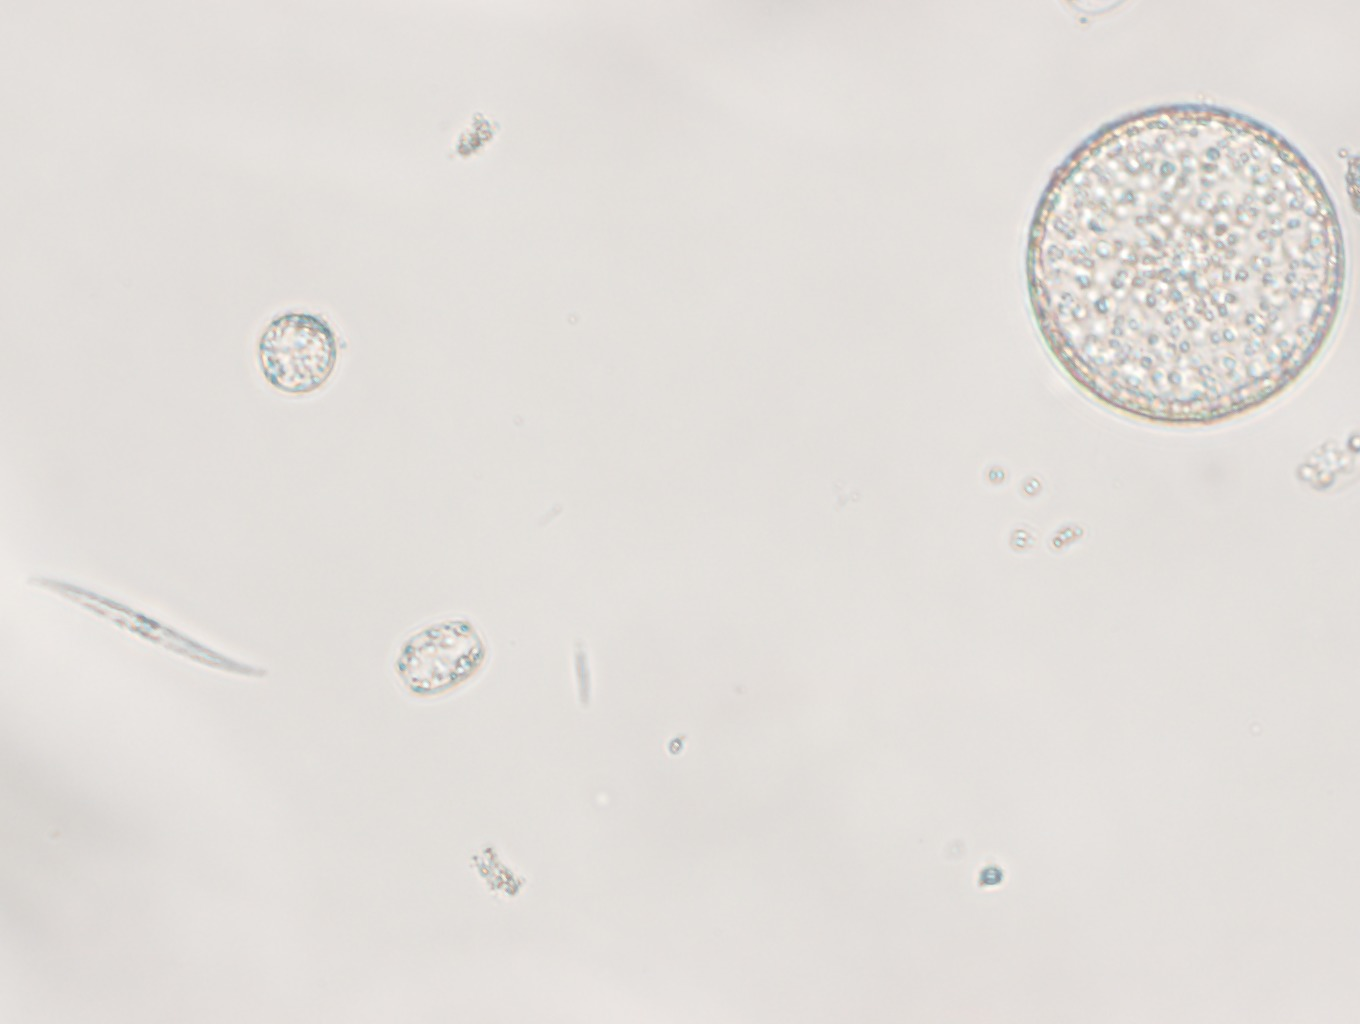coscinodiscus: (1023, 101, 1346, 424)
pleurosigma pelagicum: (28, 577, 267, 681)
